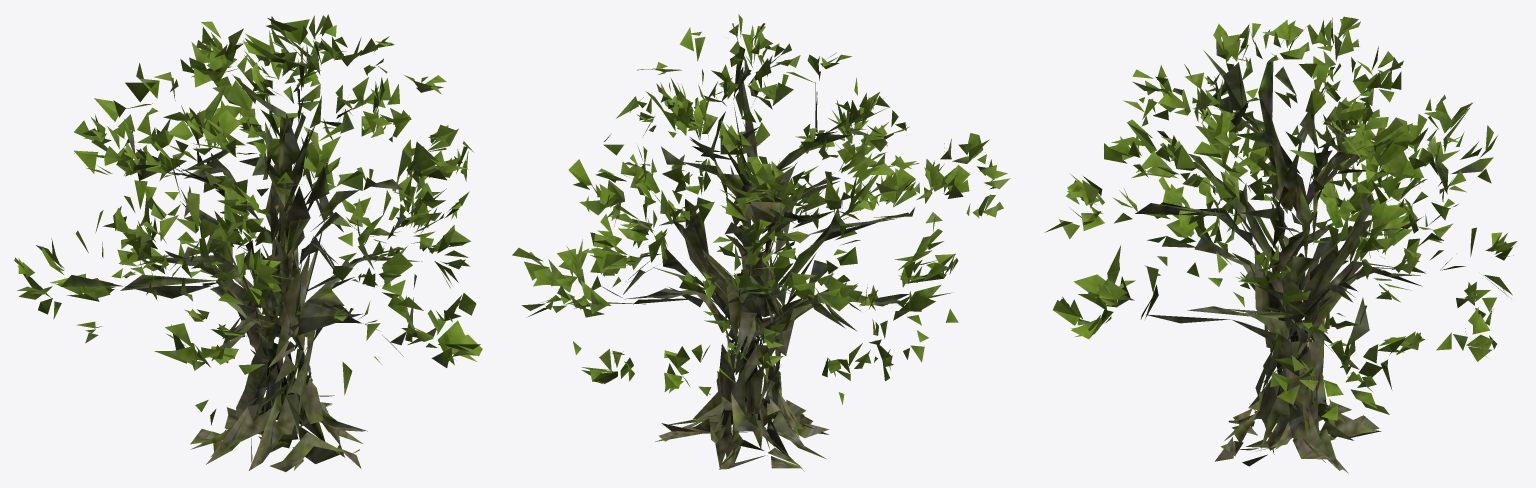
Rendered from carvalho_aster_adulta-lod.glb.
The picture shows the model from 3 angles, left to right: view 1: azimuth 30°, elevation 25°; view 2: azimuth 150°, elevation 25°; view 3: azimuth 270°, elevation 25°; orthographic projection. The views are drawn at different scales.
Parts seen in each view (by area): view 1: geometry_0; view 2: geometry_0; view 3: geometry_0.
Boxes of the visible parts, x1,y1,x2,y2 form: geometry_0: (14,14,482,471); geometry_0: (512,14,1010,471); geometry_0: (1044,16,1517,473).
Bounding box in the file's own units: 0.9848 × 0.9411 × 0.9545.
1 material, 1 textured.
